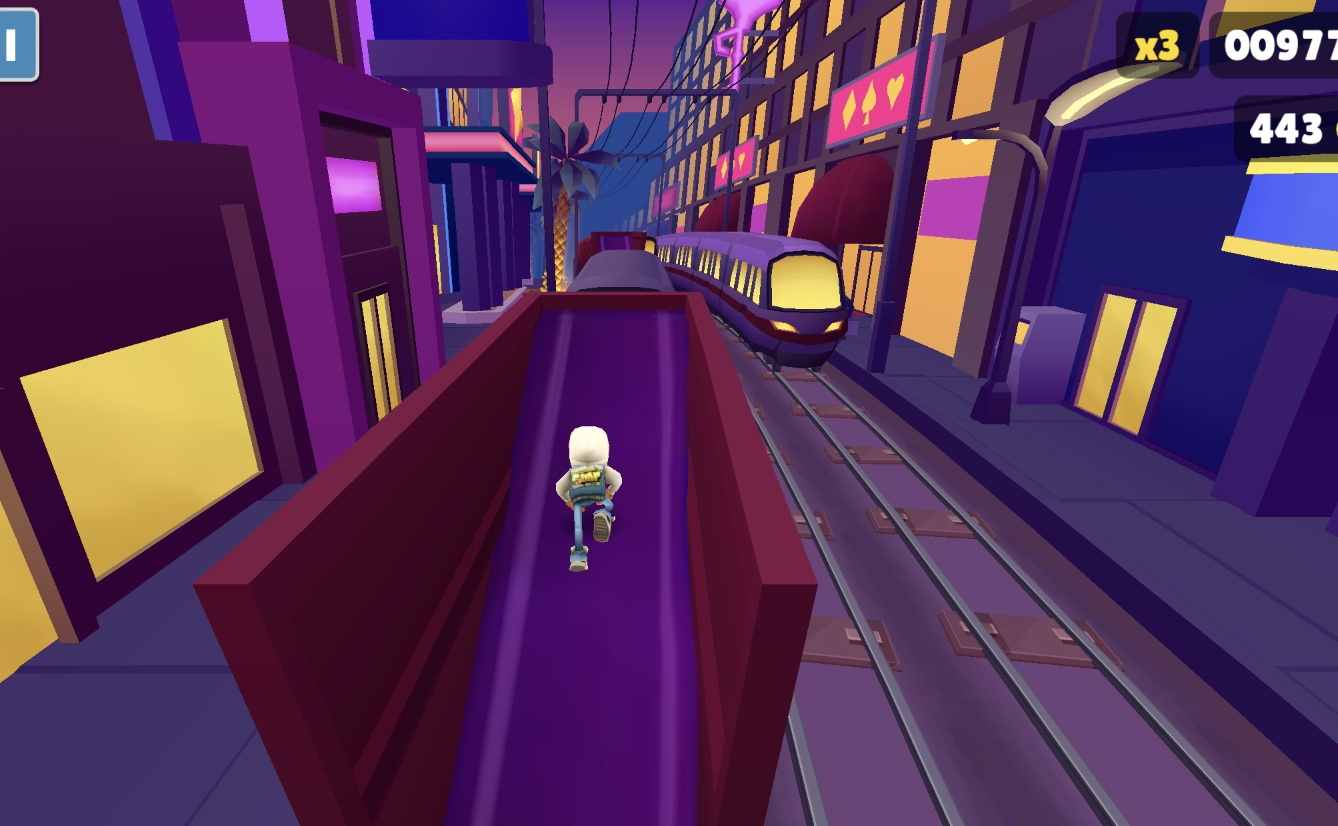train: (157, 242, 849, 826), (756, 242, 861, 354), (599, 257, 669, 299)
